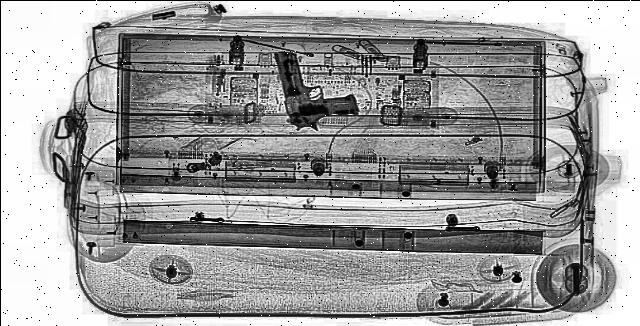Gun: (272, 48, 364, 132)
